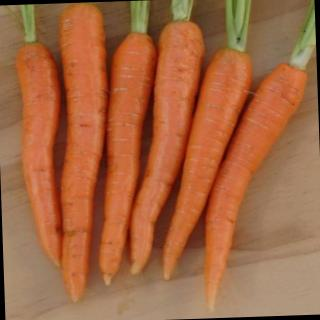Wortel: (123, 20, 214, 271), (52, 3, 116, 303), (93, 34, 168, 279)
